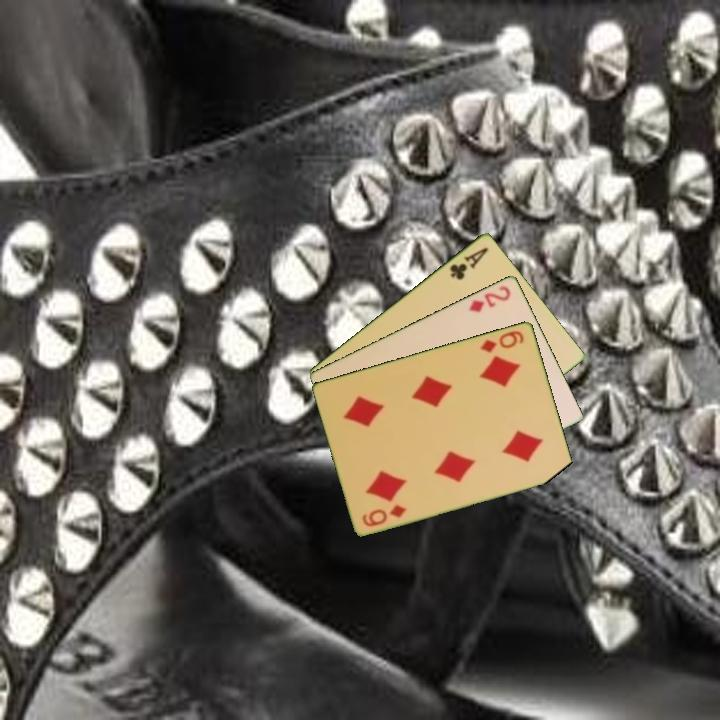2d: (466, 282, 514, 315)
6d: (477, 327, 527, 355), (359, 501, 409, 529)
Ac: (446, 243, 491, 283)
